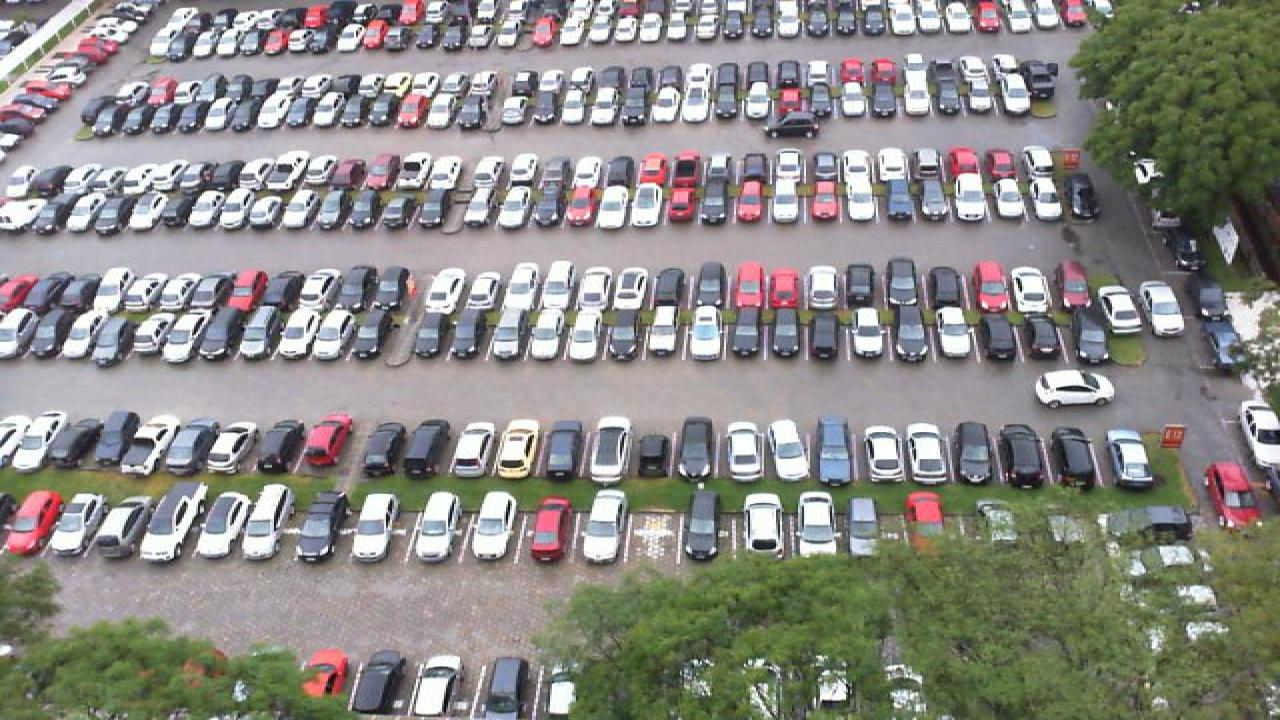Car: (140, 480, 208, 562), (62, 411, 138, 469), (0, 488, 62, 557), (48, 490, 110, 557), (244, 482, 298, 558), (194, 490, 250, 560), (578, 488, 628, 565), (410, 490, 462, 562), (1204, 460, 1262, 524), (350, 490, 400, 564), (792, 489, 844, 559), (200, 420, 262, 476), (468, 490, 516, 562), (16, 411, 72, 472), (106, 417, 168, 472), (1102, 426, 1156, 488), (300, 490, 346, 562), (260, 417, 316, 475), (162, 415, 216, 475), (1046, 426, 1098, 488), (676, 489, 720, 562), (1034, 369, 1116, 408), (1136, 279, 1188, 340), (360, 421, 416, 477), (740, 490, 786, 558), (850, 492, 896, 558), (450, 419, 502, 477), (106, 498, 156, 558), (902, 423, 950, 485), (494, 418, 542, 480), (80, 306, 128, 367), (300, 412, 352, 468), (528, 495, 572, 561), (404, 418, 454, 476), (590, 415, 632, 484), (860, 425, 908, 484), (768, 419, 812, 483), (998, 425, 1044, 486), (678, 416, 718, 483), (542, 422, 588, 479), (38, 308, 88, 359), (1242, 400, 1280, 467), (1098, 283, 1144, 338), (816, 416, 852, 486), (904, 489, 952, 541), (226, 307, 272, 361), (306, 307, 352, 360), (726, 423, 768, 481), (878, 255, 922, 310), (954, 422, 994, 482), (920, 265, 968, 315), (270, 307, 314, 361), (366, 266, 414, 312), (1060, 307, 1100, 362), (486, 310, 530, 360), (154, 310, 198, 360), (846, 309, 888, 361), (604, 307, 646, 359), (346, 307, 388, 359), (188, 308, 230, 360), (972, 259, 1012, 313), (1006, 265, 1050, 314), (0, 308, 44, 357), (186, 270, 236, 313), (112, 312, 158, 358), (292, 266, 338, 312), (442, 312, 486, 360), (1016, 312, 1058, 362), (976, 312, 1018, 362), (570, 263, 612, 313), (42, 271, 92, 313), (564, 307, 602, 362), (534, 258, 574, 310), (936, 308, 974, 362), (804, 308, 844, 359), (496, 266, 542, 310), (460, 266, 504, 312), (330, 266, 374, 312), (422, 267, 464, 315), (526, 308, 564, 361), (114, 270, 160, 313), (646, 307, 684, 359), (732, 258, 770, 310), (608, 264, 648, 313), (722, 307, 758, 360), (892, 310, 928, 362), (0, 412, 38, 461), (800, 263, 838, 312), (228, 268, 270, 312), (84, 266, 126, 310), (652, 264, 692, 310), (10, 273, 56, 313), (764, 308, 800, 359), (686, 307, 722, 358), (1056, 259, 1094, 307), (692, 260, 728, 310), (150, 270, 192, 312), (840, 262, 876, 310), (766, 264, 802, 312), (260, 269, 302, 310), (636, 432, 672, 478), (0, 276, 30, 312)
